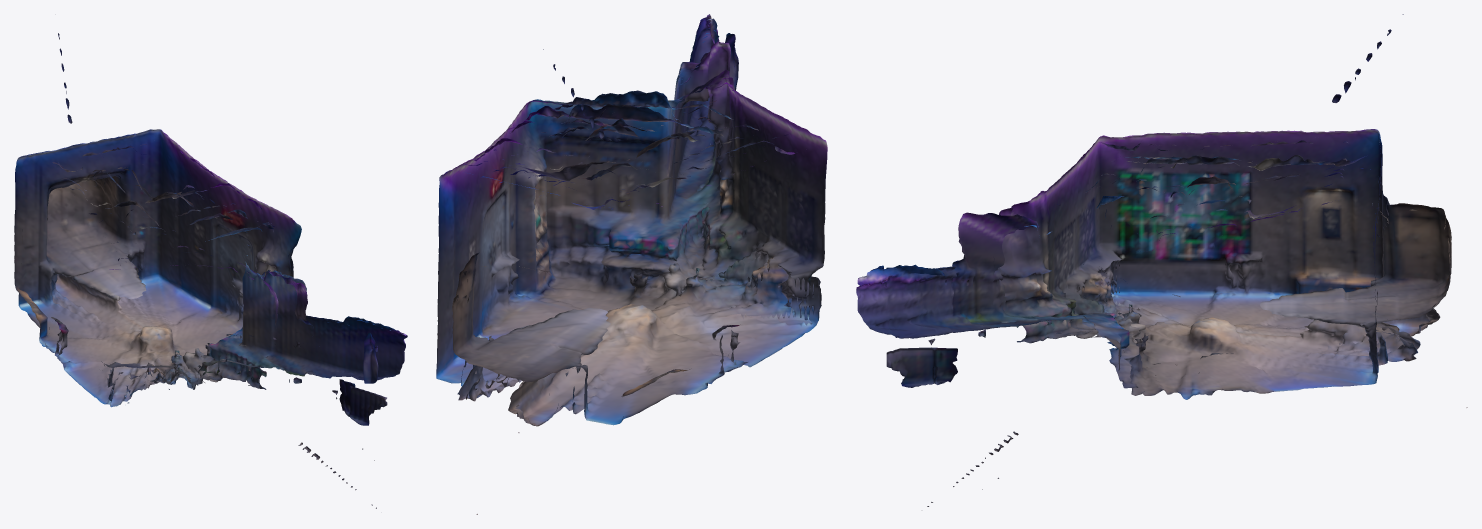
File: room.glb
The picture shows the model from 3 angles, left to right: view 1: azimuth 30°, elevation 25°; view 2: azimuth 150°, elevation 25°; view 3: azimuth 270°, elevation 25°; orthographic projection. The views are drawn at different scales.
Parts seen in each view (by area): view 1: world; view 2: world; view 3: world.
Part boxes in pixels (left/top/right/bottom): world: left=14, top=33, right=407, bottom=508; world: left=436, top=14, right=827, bottom=514; world: left=856, top=14, right=1467, bottom=506.
Bounding box in the file's own units: 7.06 × 11.69 × 14.94.
